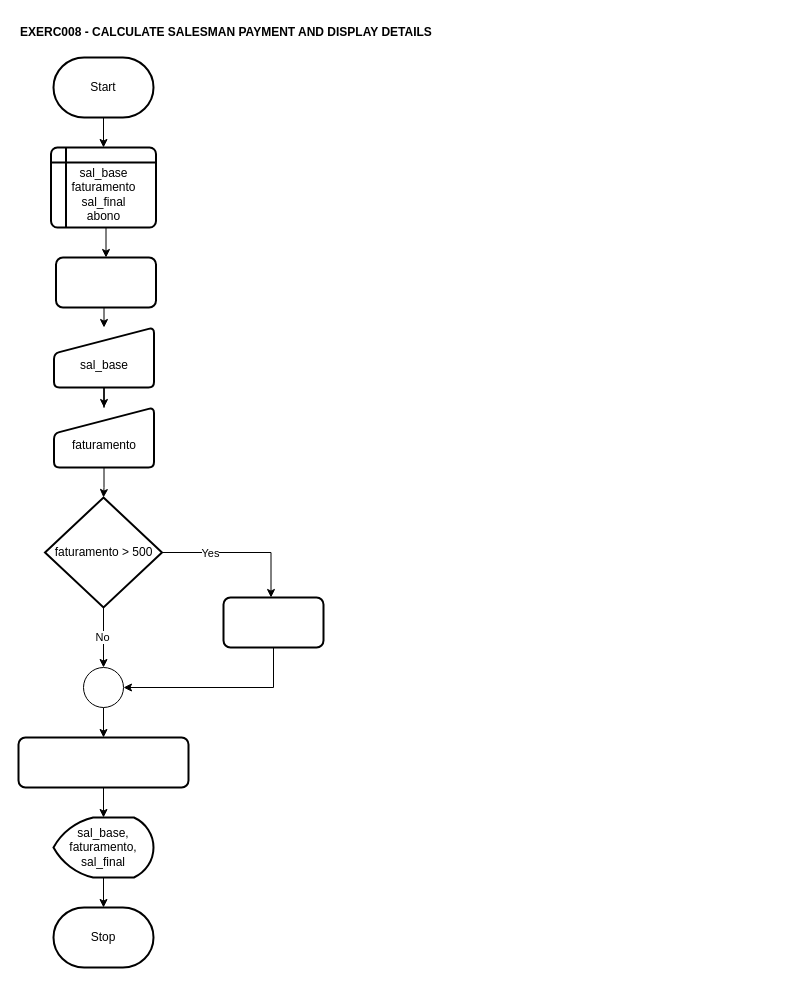
This 795x985 diagram has some shape labels left out. The centre of each missing label's shape, as x and y in pixels:
abono = 0: [105,282]
abono = 300: [273,622]
sal_final = sal_base + abono: [103,762]
